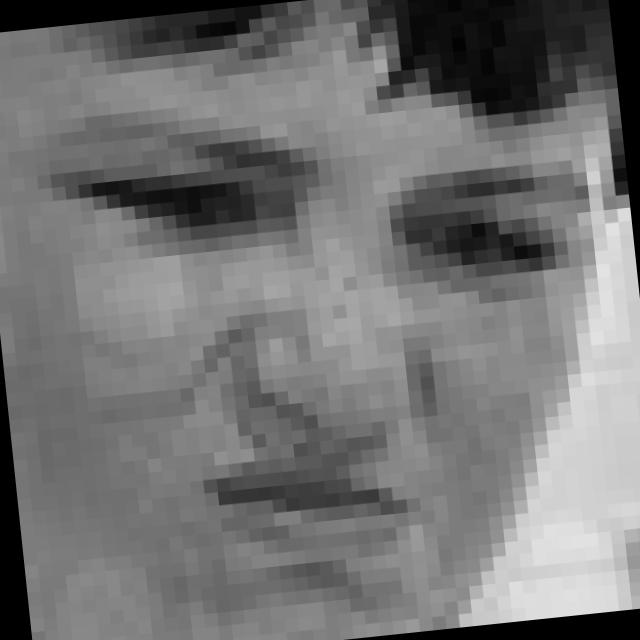disgust: (42, 70, 629, 636)
